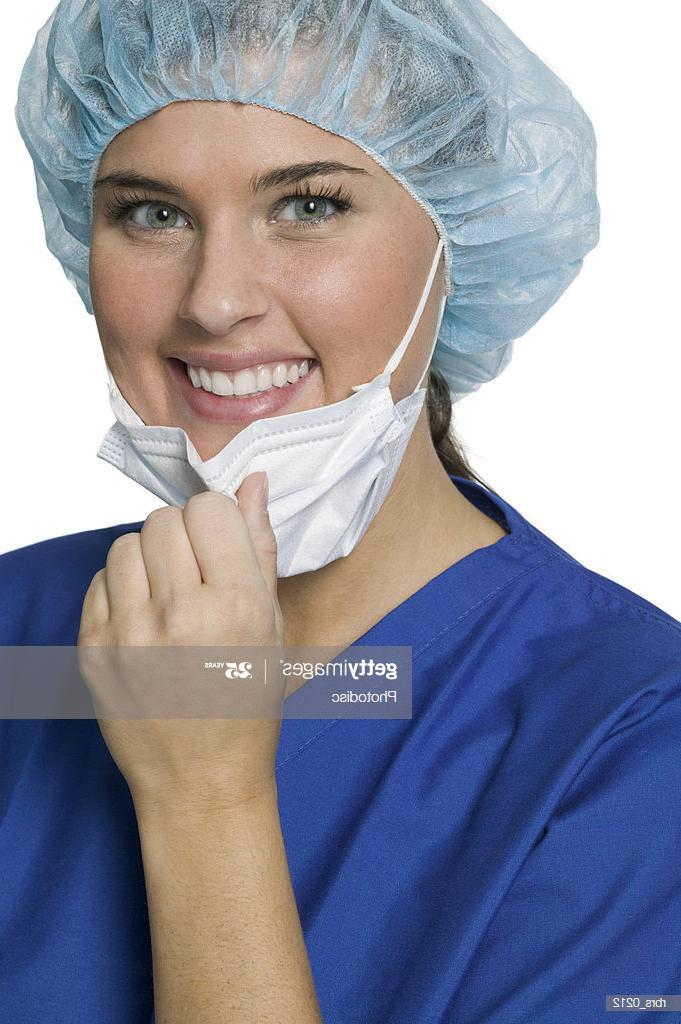mask_weared_incorrect: (110, 156, 369, 533)
